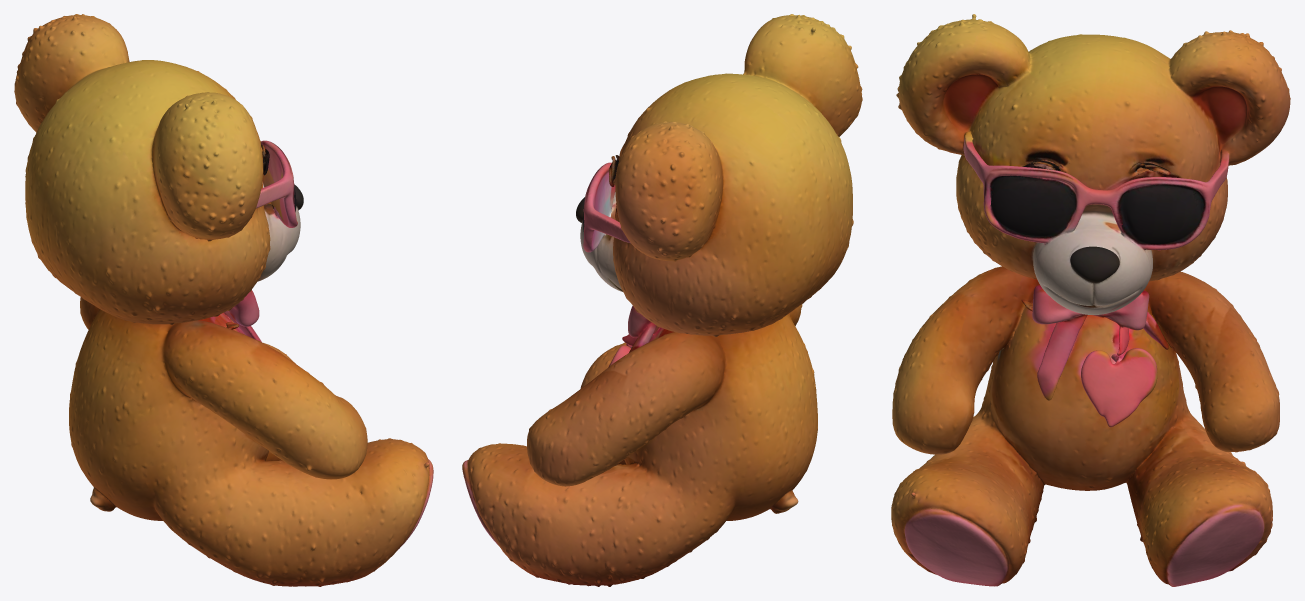
The model's file is bear.glb.
3 renders of one model, left to right at view 1: azimuth 30°, elevation 25°; view 2: azimuth 150°, elevation 25°; view 3: azimuth 270°, elevation 25°, orthographic. The views are drawn at different scales.
Visible parts, largest first — view 1: tripo_node_3e09de94-e4d5-48c9-88f3-1d0e6731f343; view 2: tripo_node_3e09de94-e4d5-48c9-88f3-1d0e6731f343; view 3: tripo_node_3e09de94-e4d5-48c9-88f3-1d0e6731f343.
Part boxes in pixels (<box>): tripo_node_3e09de94-e4d5-48c9-88f3-1d0e6731f343: <box>14,14,433,586</box>; tripo_node_3e09de94-e4d5-48c9-88f3-1d0e6731f343: <box>462,14,862,586</box>; tripo_node_3e09de94-e4d5-48c9-88f3-1d0e6731f343: <box>891,14,1290,586</box>.
Bounding box in the file's own units: 0.6448 × 1 × 0.733.
Materials: 1 (1 with a texture image).
